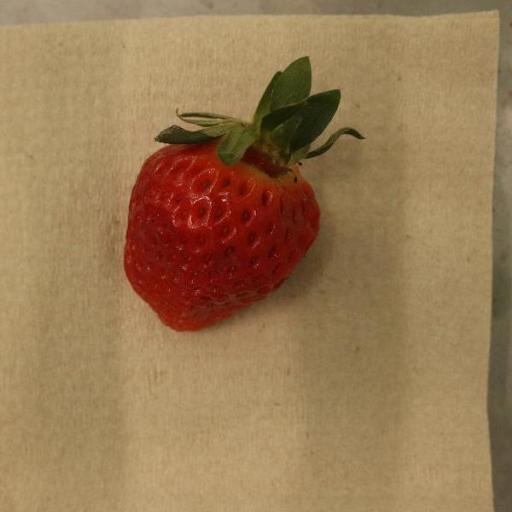Strawberry: (123, 57, 365, 332)
